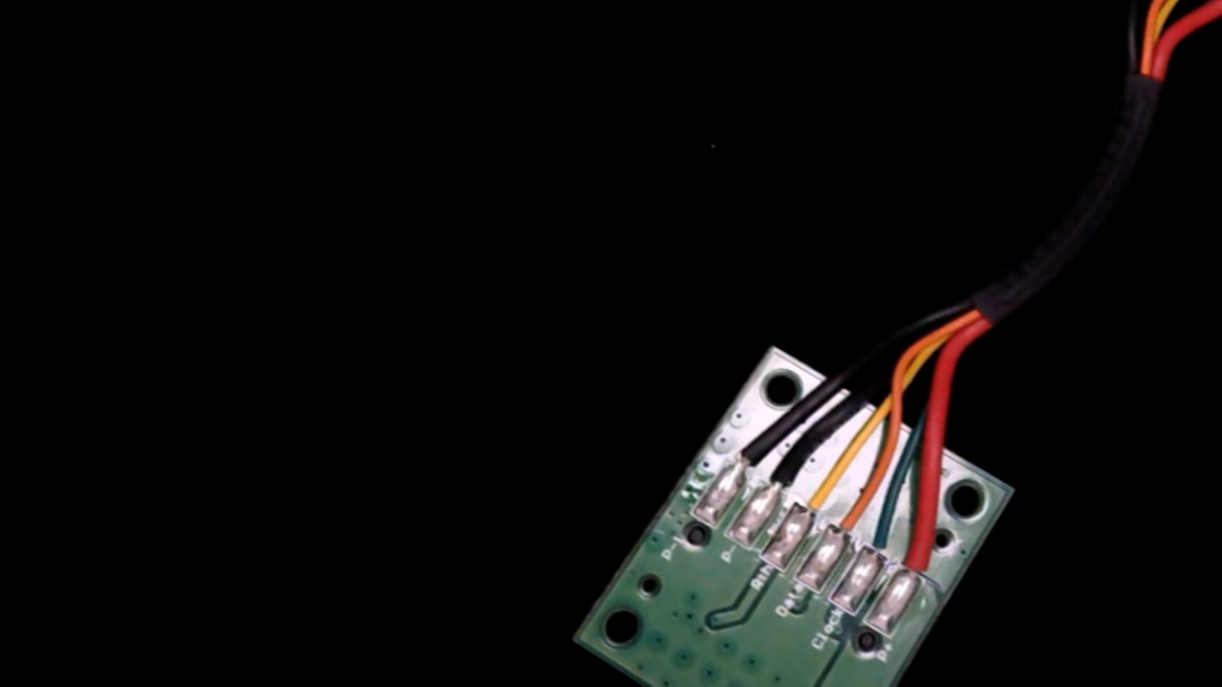Black: (748, 437, 819, 514)
Black1: (713, 417, 786, 493)
Green: (849, 504, 918, 579)
Orange: (813, 478, 886, 560)
Red: (885, 519, 959, 601)
Yellow: (780, 455, 857, 539)
